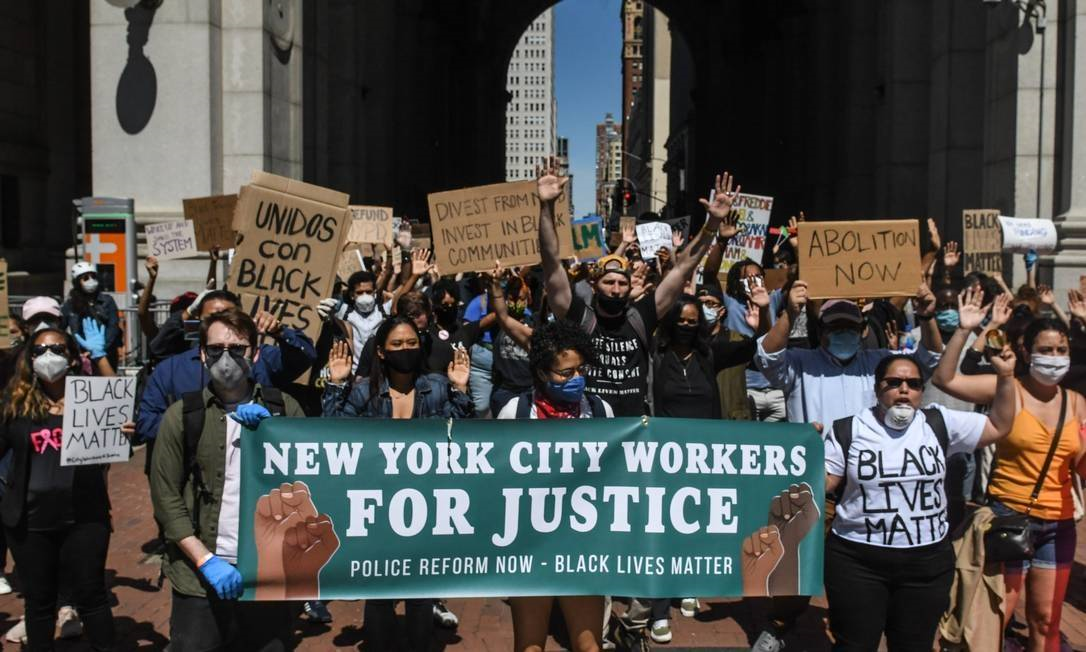mask_weared_incorrect: (876, 358, 925, 426), (591, 265, 634, 315)
with_mask: (199, 324, 259, 396), (534, 346, 589, 404), (1024, 325, 1071, 385), (28, 329, 76, 386), (819, 312, 869, 364), (379, 322, 423, 379), (668, 302, 705, 344), (932, 288, 967, 331), (348, 275, 378, 314)
